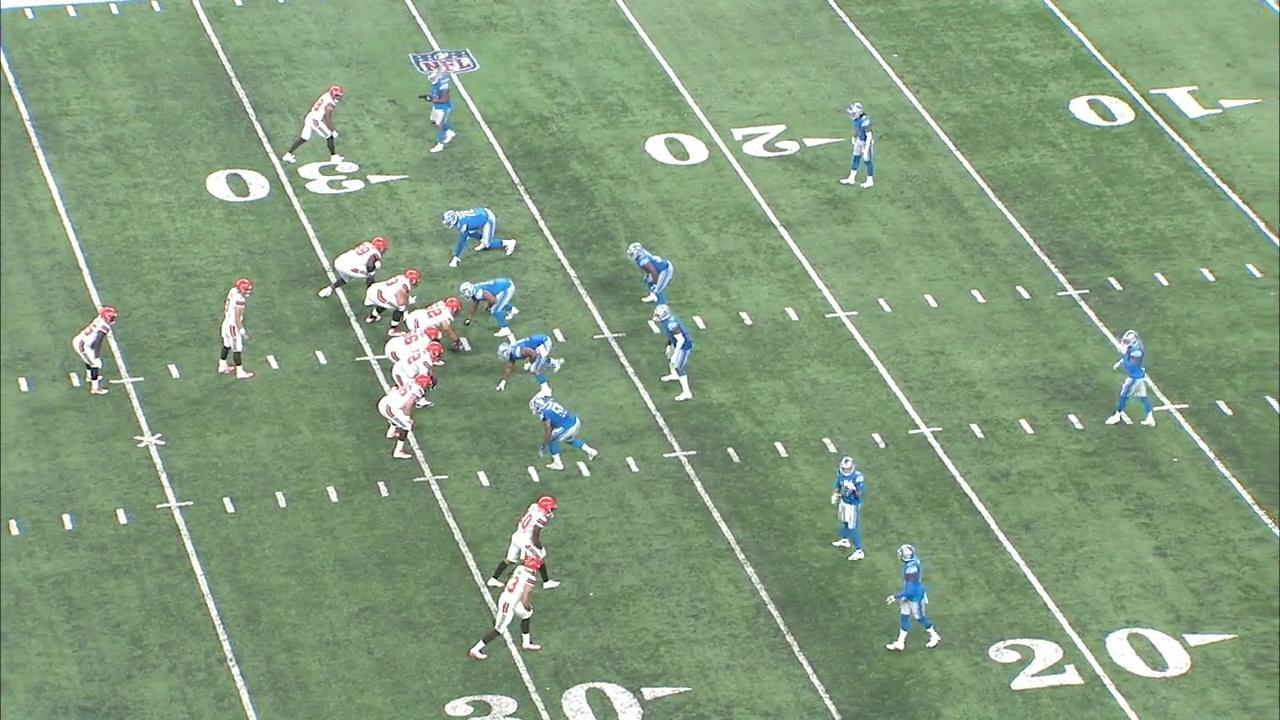player: (474, 556, 546, 662), (487, 495, 561, 590), (887, 542, 945, 658), (280, 82, 350, 169), (648, 305, 707, 401), (440, 201, 520, 268), (1106, 329, 1159, 430), (528, 395, 600, 469), (372, 376, 431, 463), (828, 456, 873, 564), (73, 303, 121, 398), (321, 236, 388, 300), (216, 274, 256, 378), (495, 328, 559, 393), (457, 277, 526, 336), (421, 66, 458, 159), (840, 102, 878, 192), (624, 239, 677, 303), (408, 296, 464, 350), (365, 269, 420, 321), (385, 327, 436, 369), (394, 339, 446, 380)
